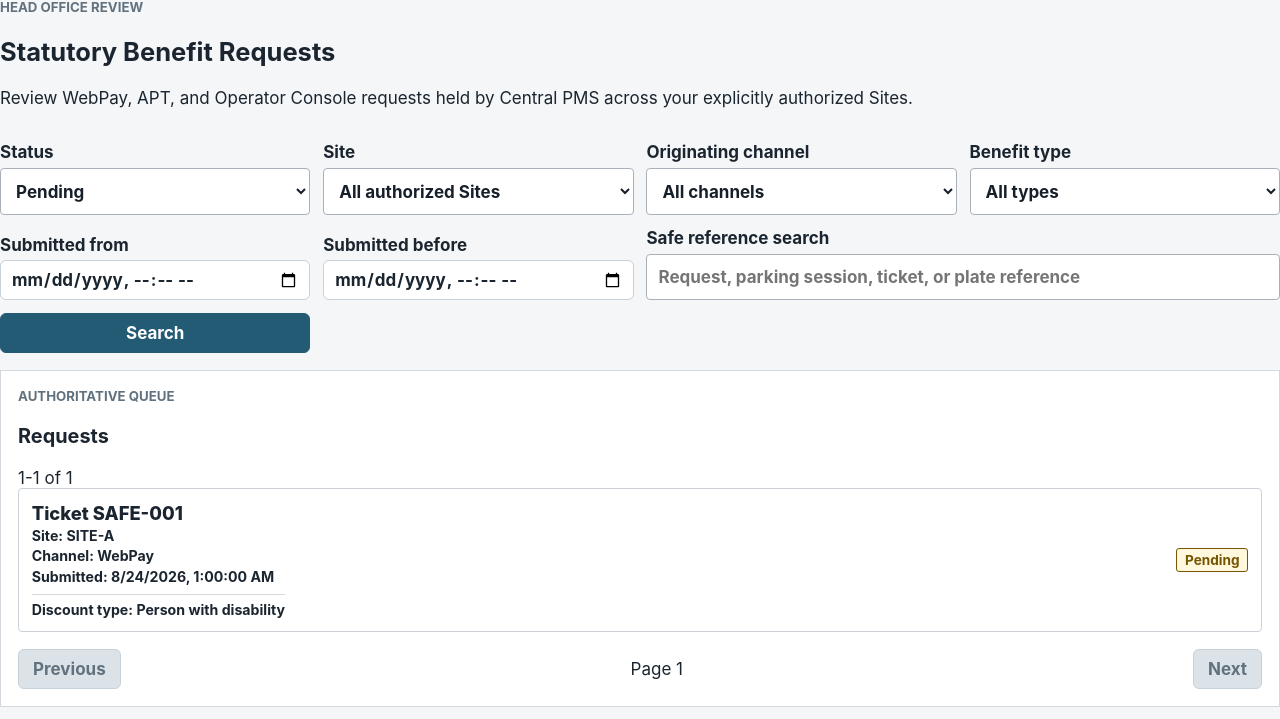
Statutory Benefit Requests › shows the retained beneficiary name on finalized review details
Click the button named "Person with disability" at (640,560), box x1=18 y1=488 x2=1262 y2=632
(page scrolled)
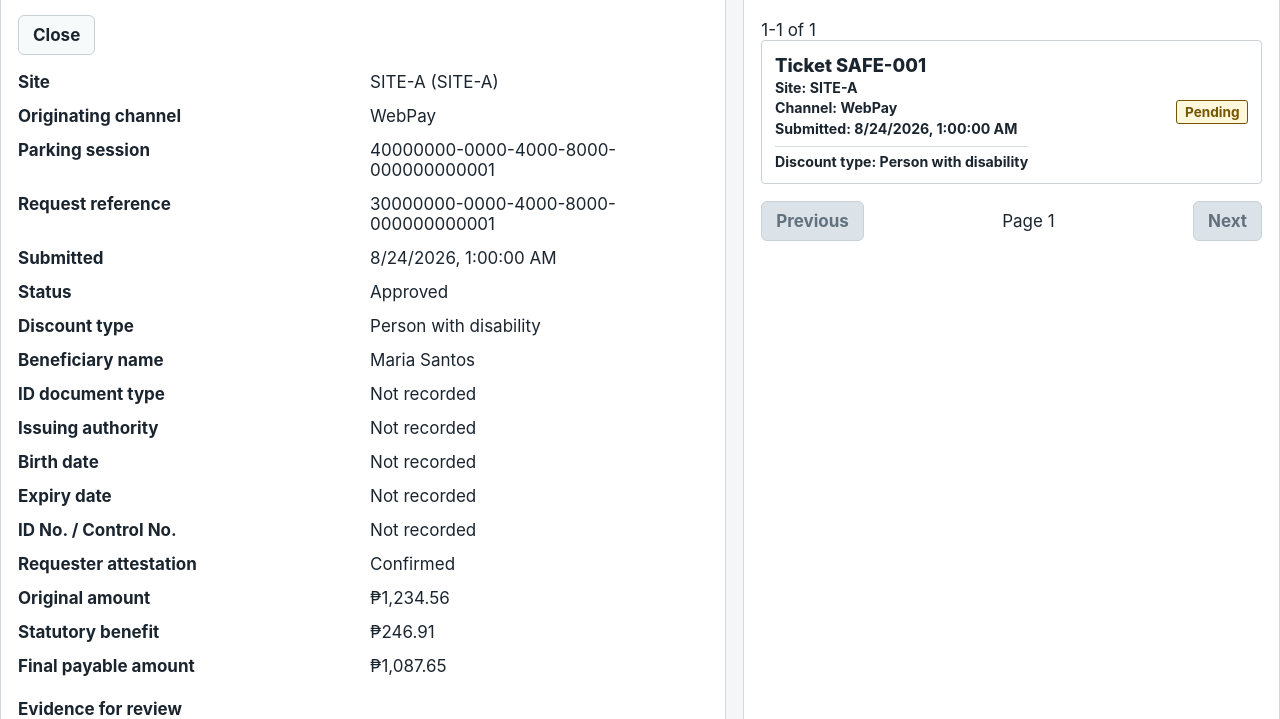
Expected: the text "Beneficiary name" is shown, x1=18 y1=350 x2=164 y2=370
Expected: the text "Maria Santos" is shown, x1=370 y1=350 x2=475 y2=370
